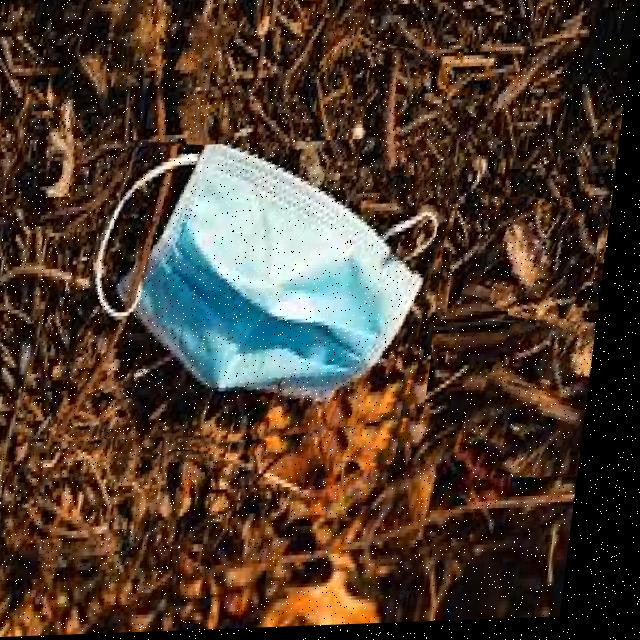mask: (70, 138, 462, 469)
wood: (468, 318, 607, 483), (471, 197, 609, 325), (360, 47, 431, 179)
